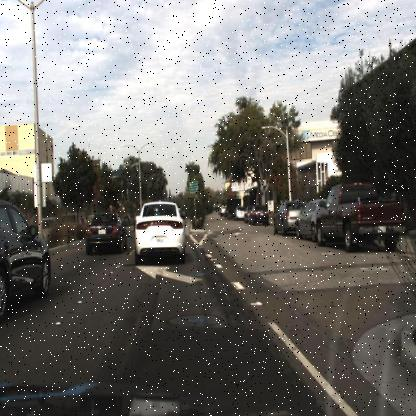car: (316, 177, 404, 250), (0, 200, 51, 317), (130, 199, 186, 267), (85, 210, 127, 260), (296, 196, 326, 240), (293, 196, 321, 242), (271, 197, 299, 237), (251, 204, 270, 226), (233, 205, 245, 222)
truck: (223, 195, 244, 217)
